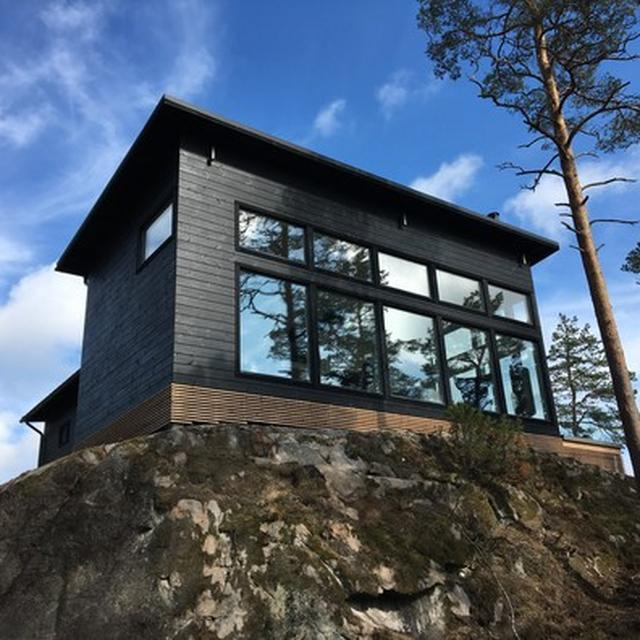building: (51, 87, 626, 468)
